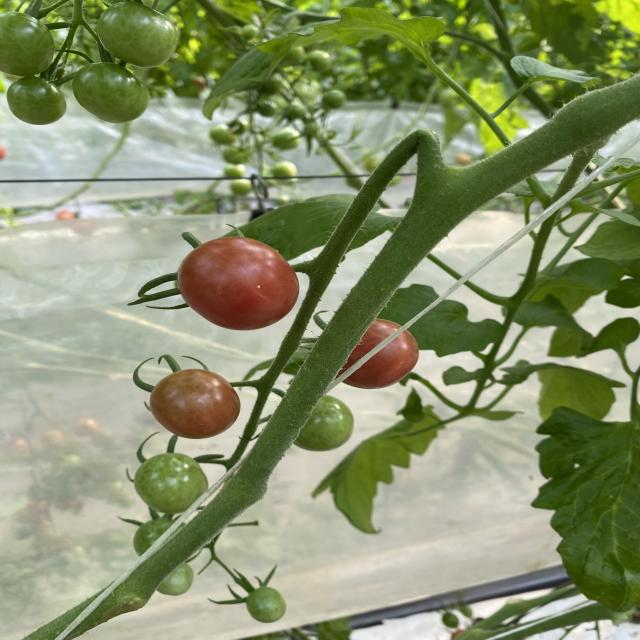c-half-riped: (148, 367, 242, 438)
c-riped: (176, 237, 300, 331), (334, 318, 419, 388)
c-unriped: (96, 2, 180, 68), (133, 452, 210, 515), (71, 62, 150, 123), (0, 11, 56, 77), (292, 394, 355, 452), (6, 76, 67, 126), (133, 518, 186, 561), (246, 586, 288, 623), (156, 562, 194, 596)
